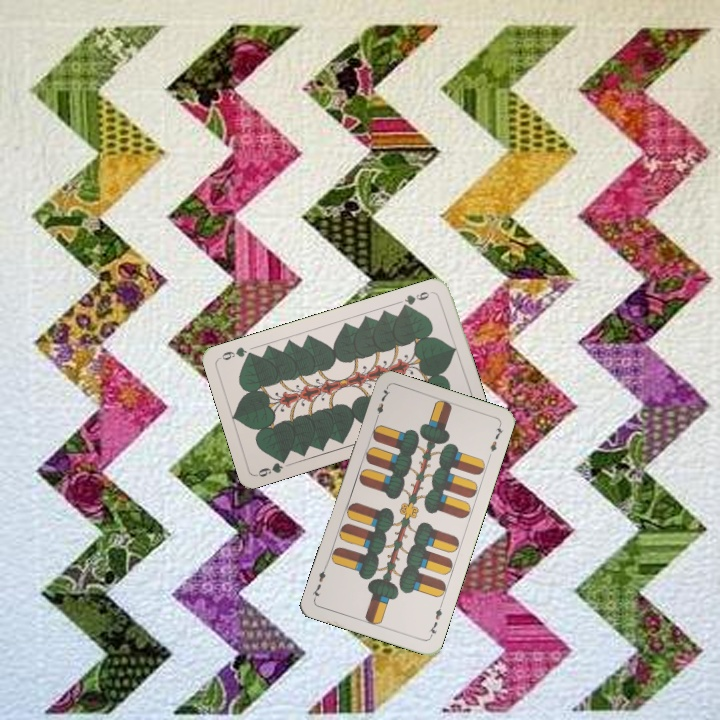E7: (371, 384, 393, 424), (425, 601, 445, 640)
G9: (253, 453, 290, 480), (398, 287, 436, 311)
